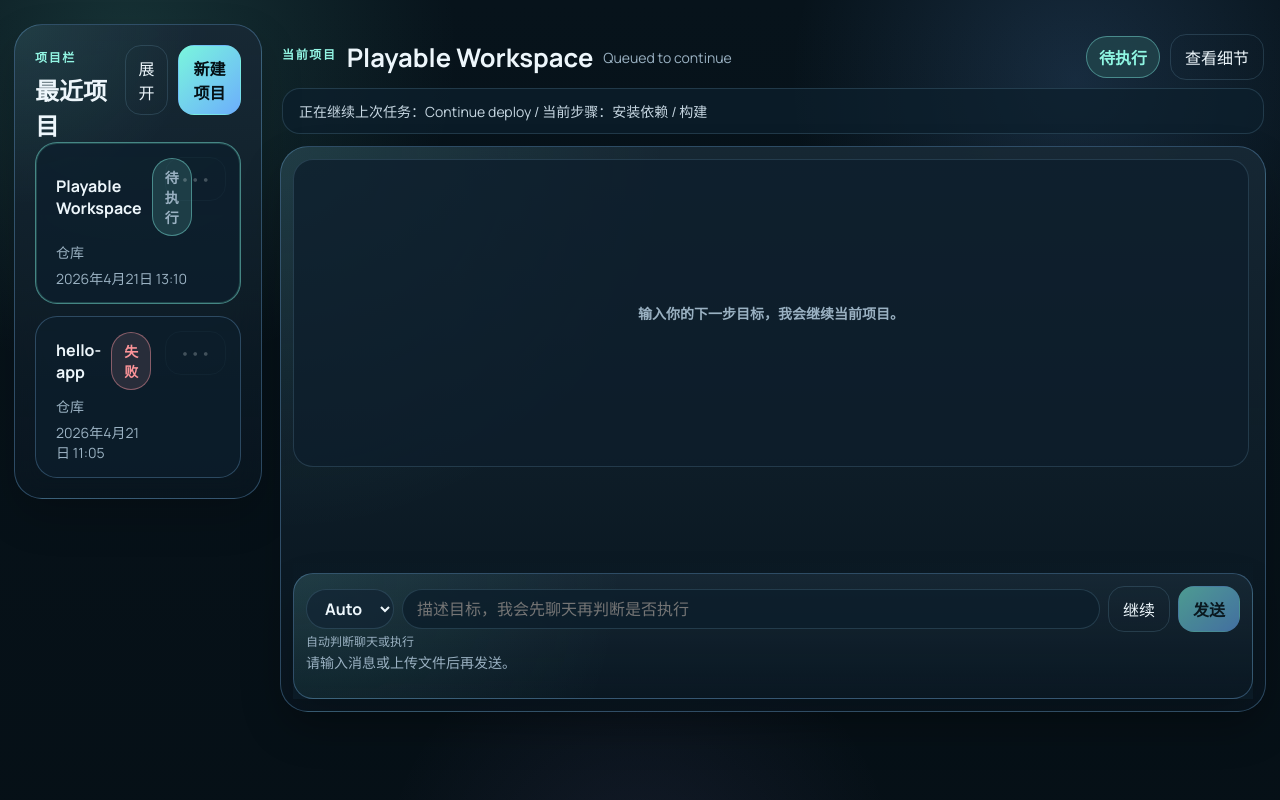
OperatorV4Page › renders a chat-first layout with an inline mode menu instead of a separate ask/run panel
Expected: the header with test id "operator-v4-workspace-header" is shown, [280,24,1266,136]
Expected: the label with test id "operator-v4-inline-mode" is shown, [306,589,394,629]
Focus the field with test id "operator-v4-composer-input" at (751, 609), box [402,589,1100,629]
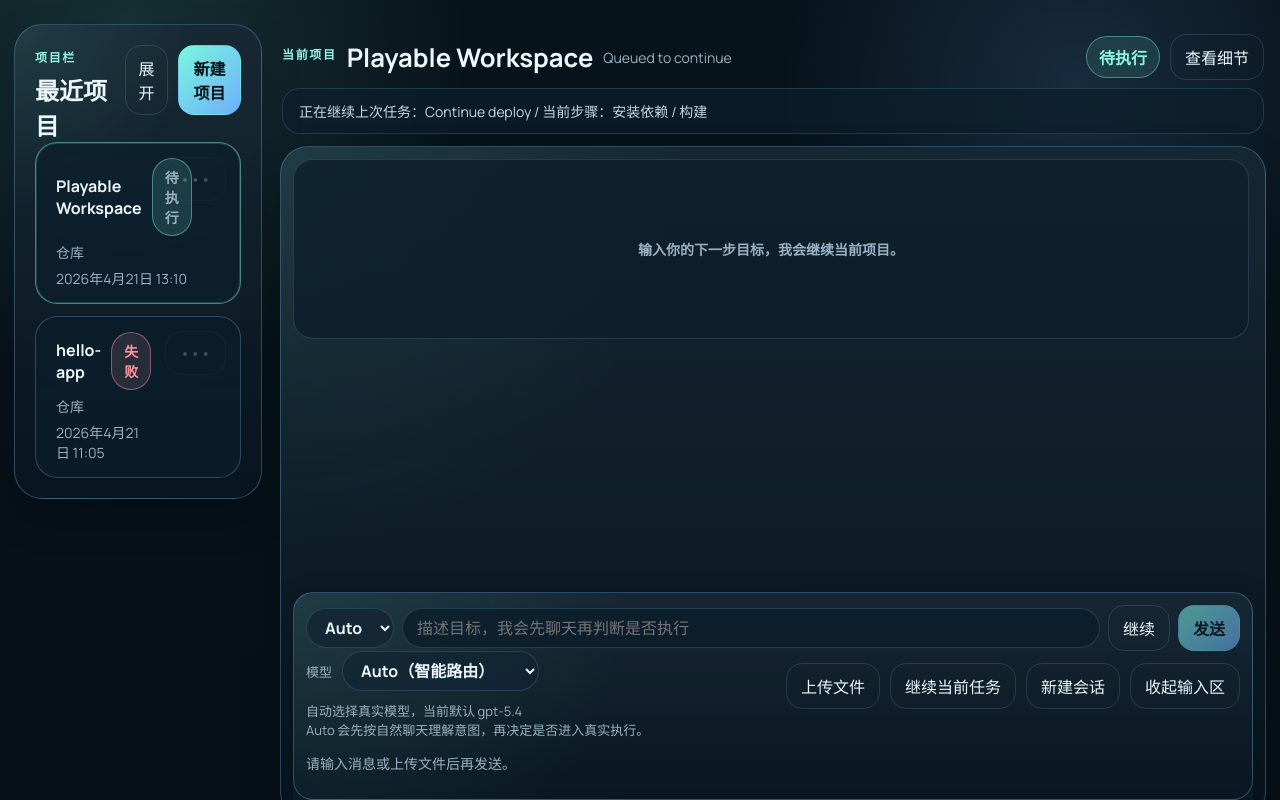
Expected: the text "模型 自动选择真实模型，当前默认 gpt-5.4" is shown, [306,651,539,720]
